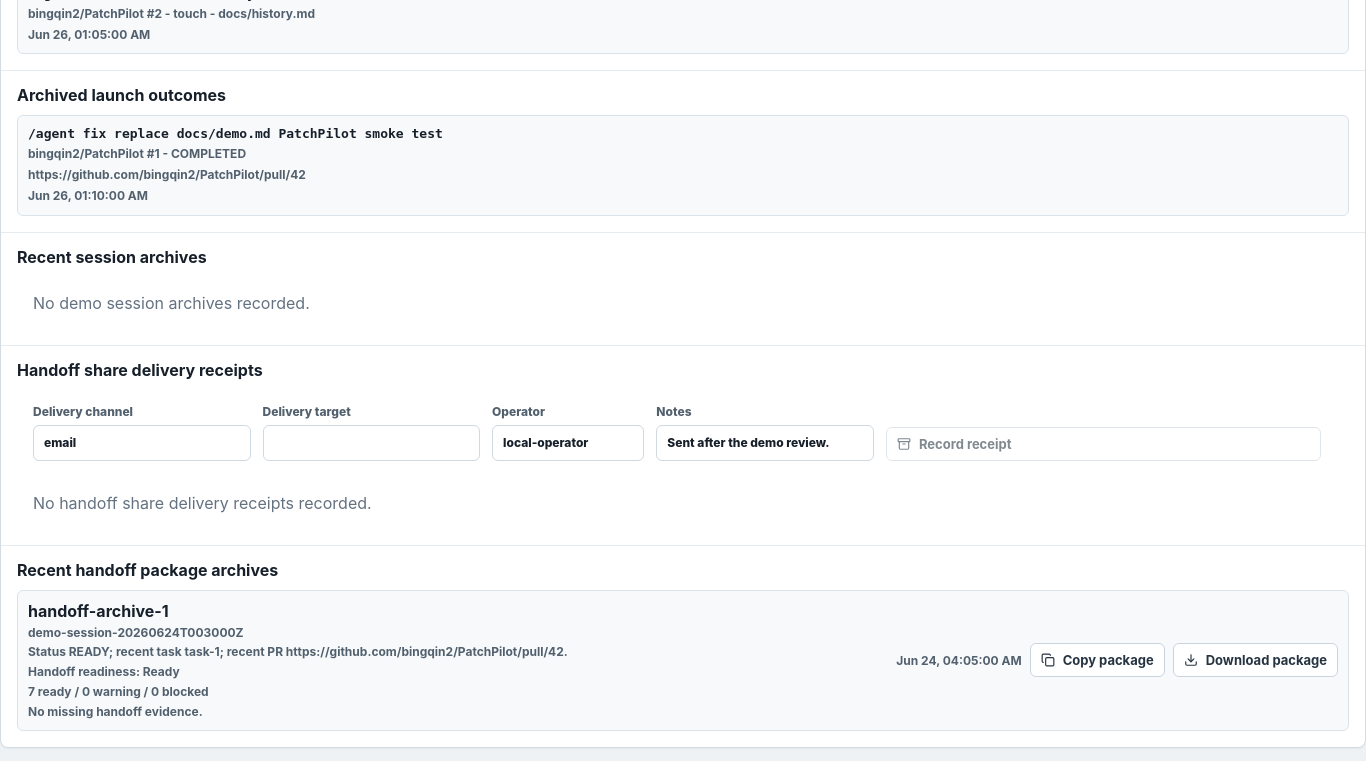
Test: downloads archived demo handoff package markdown
The width and height of the screenshot is (1366, 761).
(page scrolled)
Click the button with aria-label "Download archived handoff package handoff-archive-1": (1255,660) [1173, 643, 1338, 677]
(page scrolled)
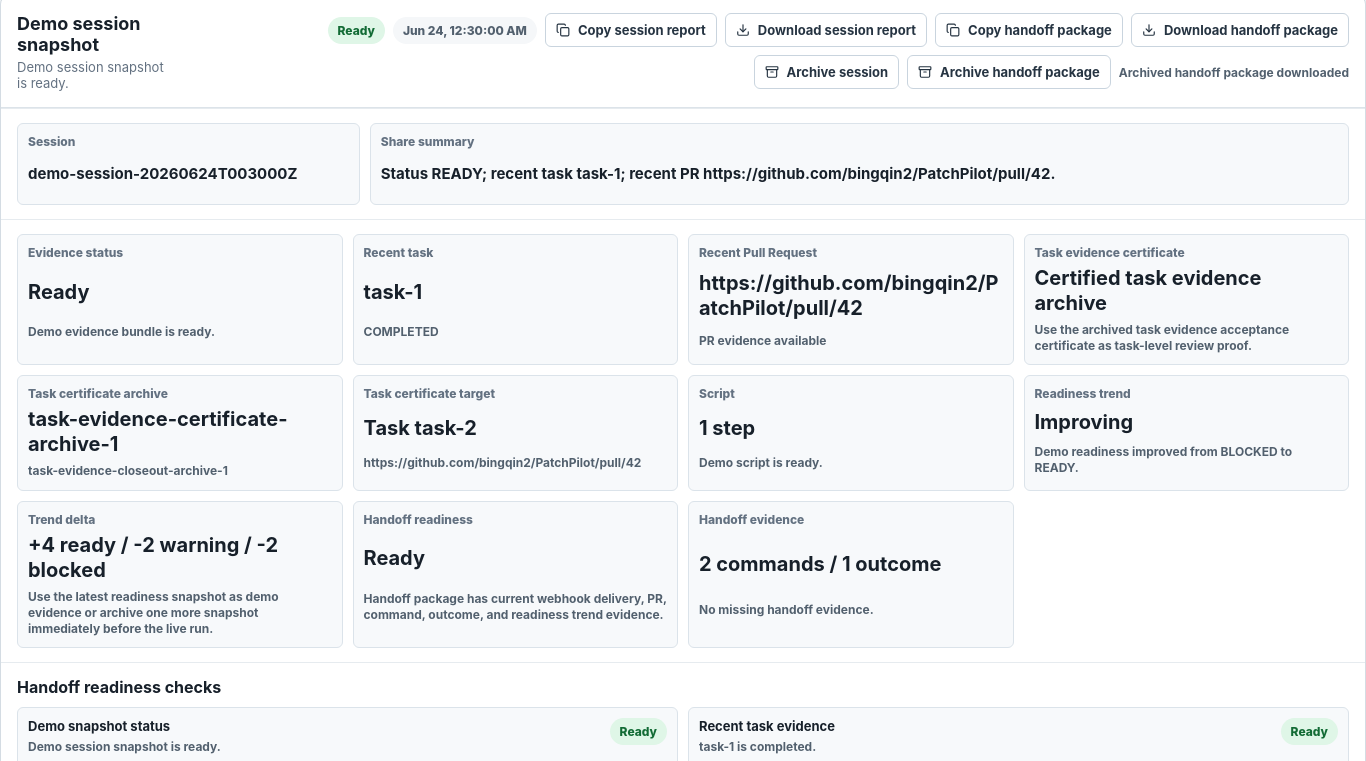
Now the text "Archived handoff package downloaded" is shown, box [1119, 64, 1349, 80]
